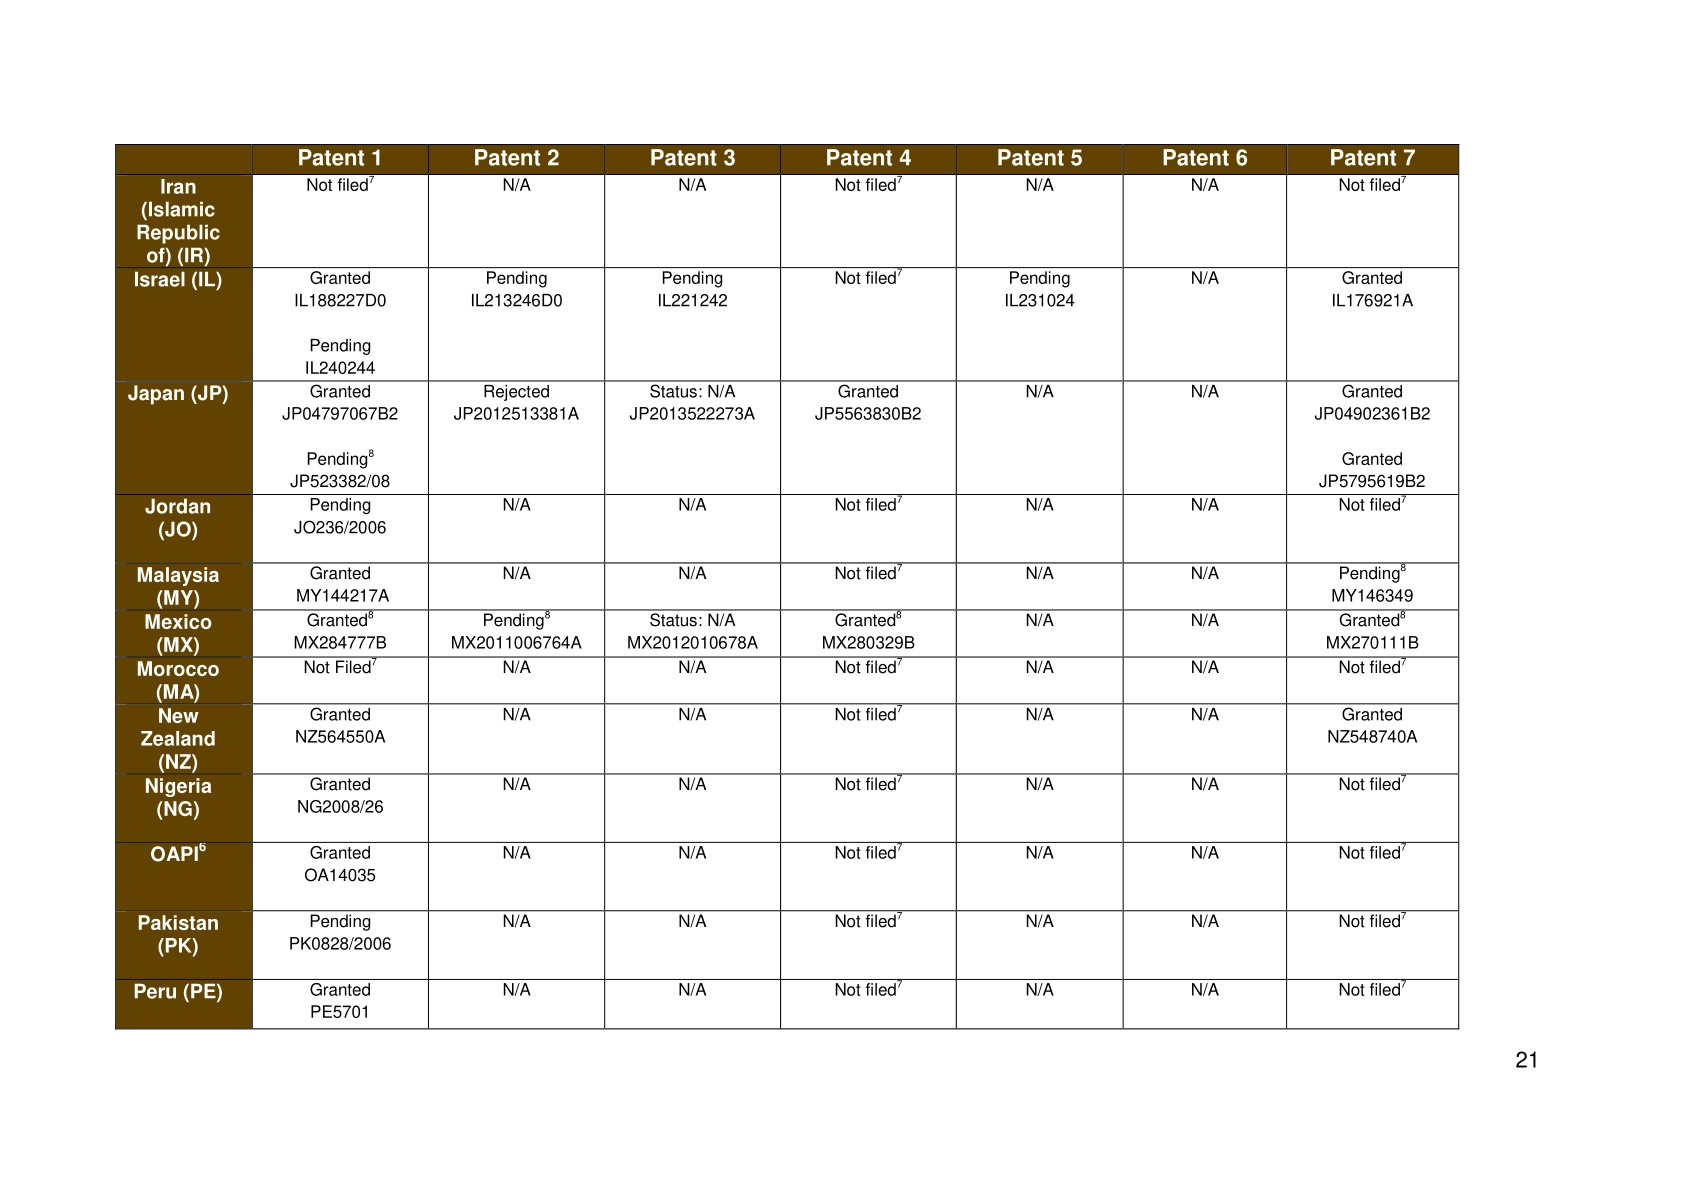full_lined: (113, 142, 1460, 1031)
